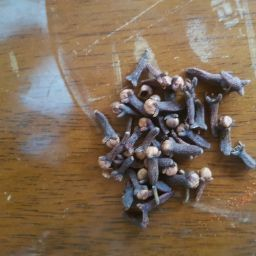Cloves: (87, 52, 256, 231), (95, 51, 256, 181)
